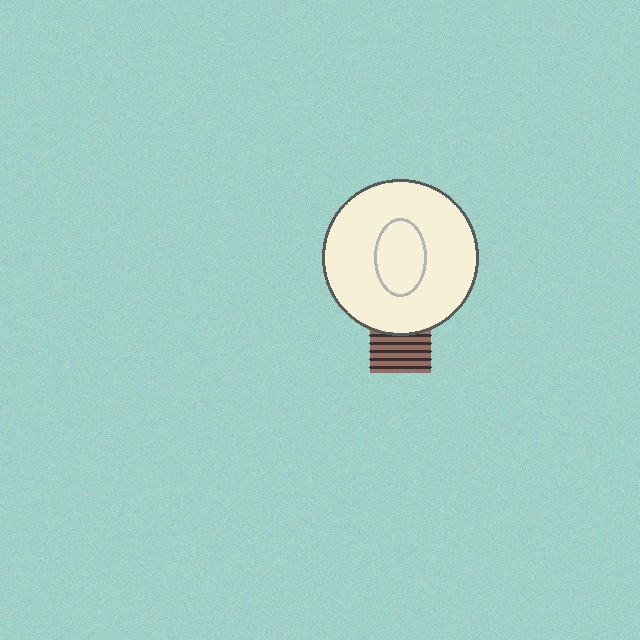bulb: (318, 175, 482, 377)
